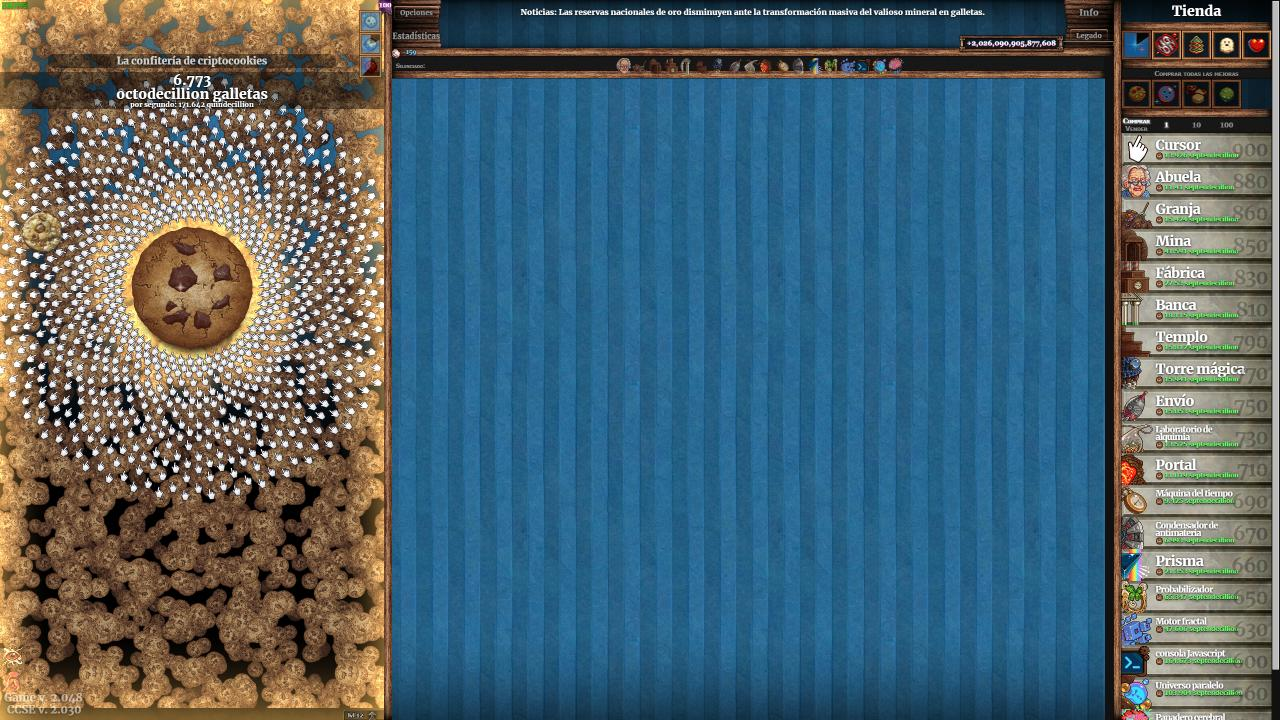GoldenCookie: (21, 210, 64, 254)
